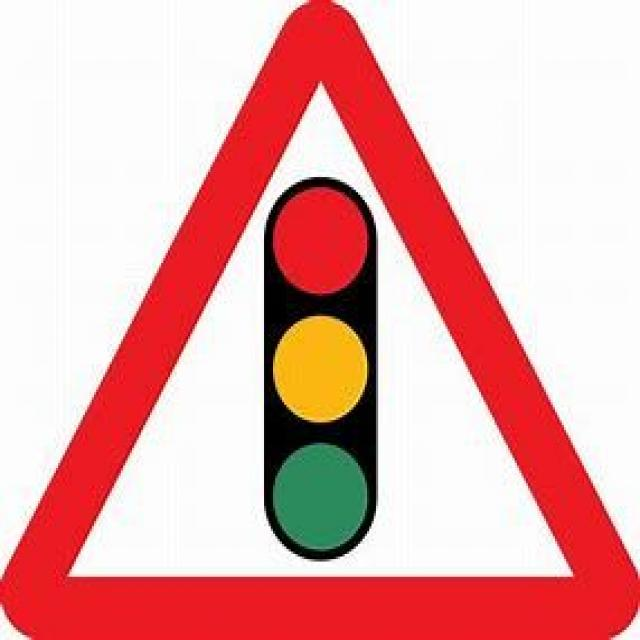TRAFFIC_SIGNAL: (2, 0, 637, 637)
